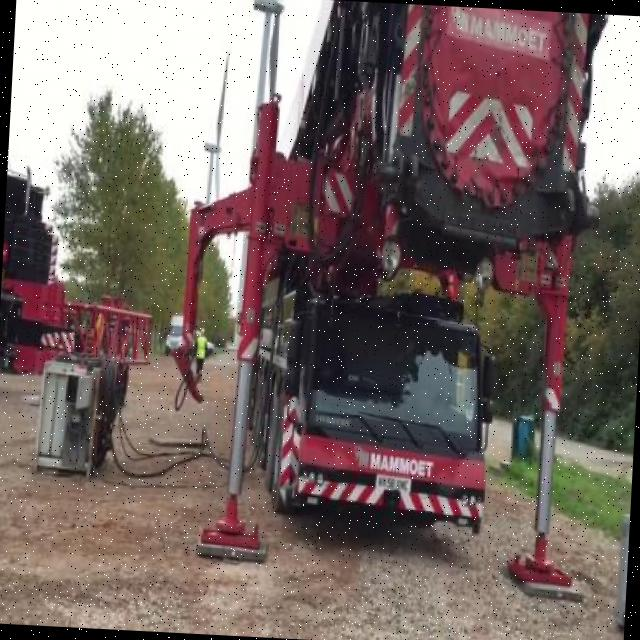Mobile Crane: (171, 0, 615, 576)
